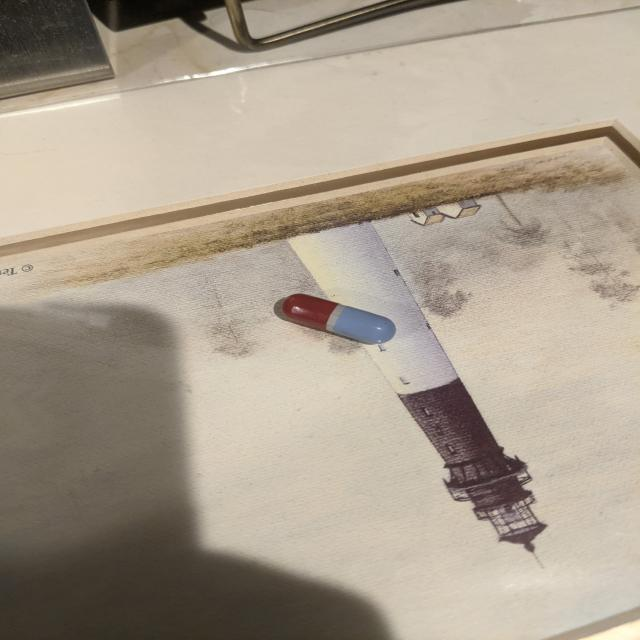non-organic waste: (281, 292, 397, 345)
